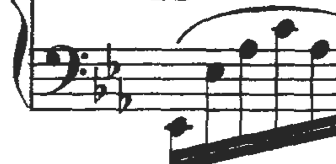bass_clef: (36, 34, 93, 103)
flat: (114, 74, 141, 119), (89, 65, 109, 113), (102, 41, 125, 82)
